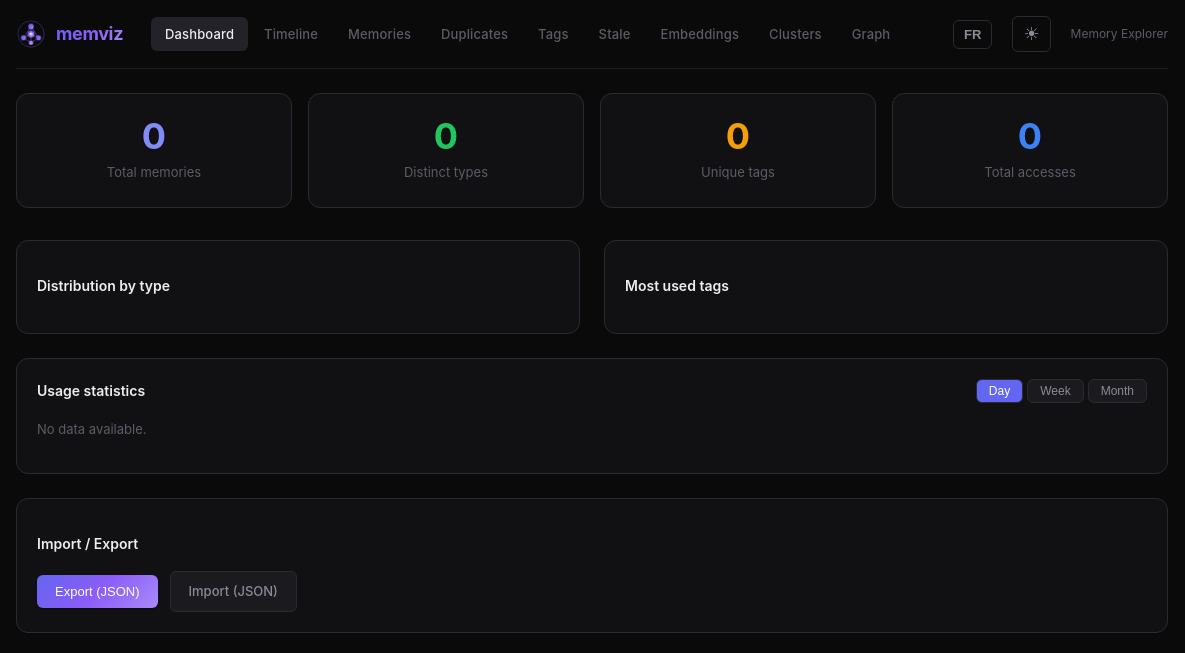
Test: Language Toggle › Language Toggle Button in App › le texte de navigation change selon la langue
Expected: the link "Memories" is shown, 348,26 -> 411,42
Expected: the link "Duplicates" is shown, 441,26 -> 508,42
Note: Passer en francais
Click the button with aria-label "toggle language" at (973, 34), box 953,20 -> 992,48
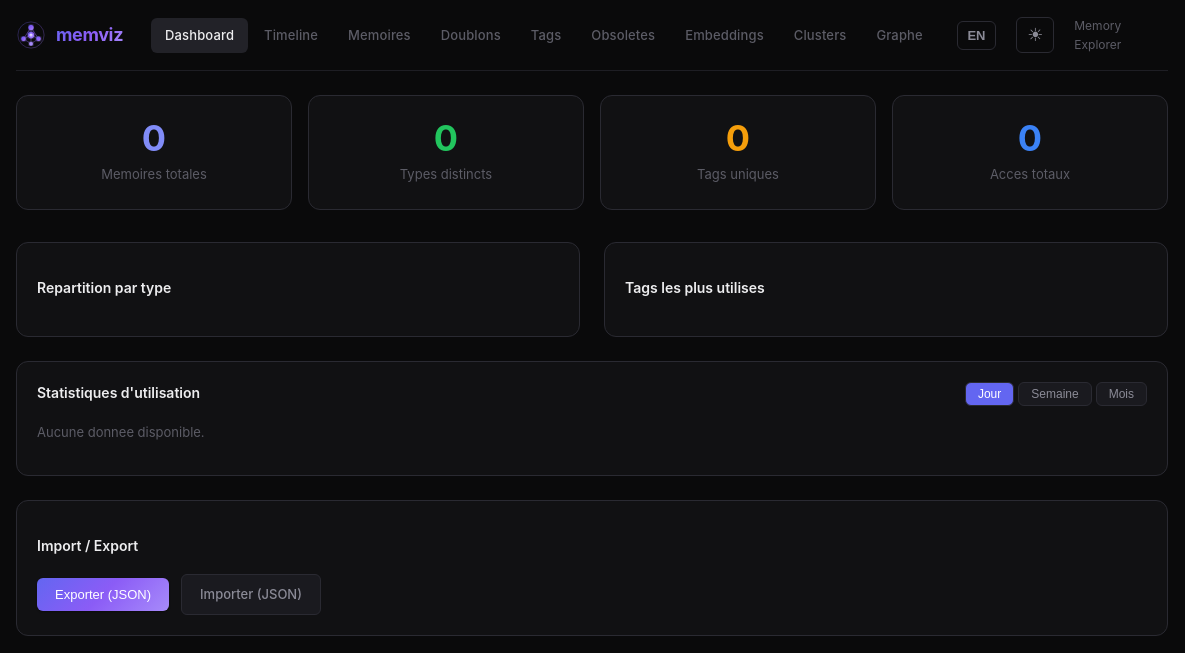
Expected: the link "Memoires" is shown, 348,27 -> 411,43
Expected: the link "Doublons" is shown, 441,27 -> 501,43
Expected: the link "Graphe" is shown, 876,27 -> 923,43
